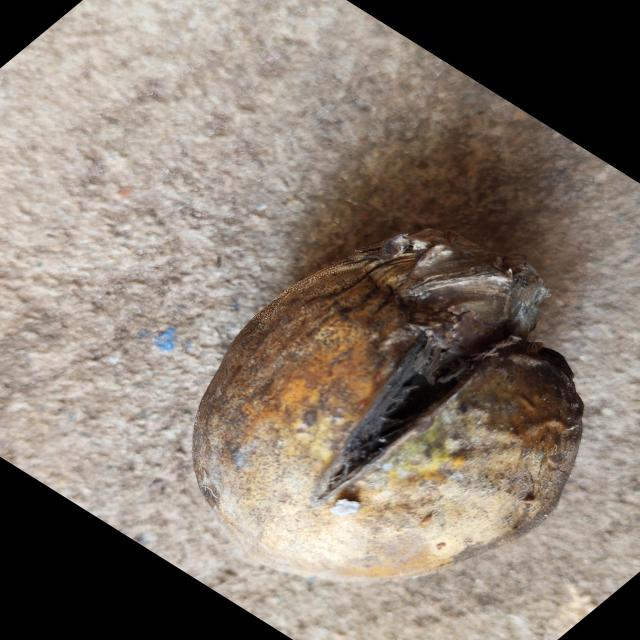damaged: (195, 230, 586, 597)
